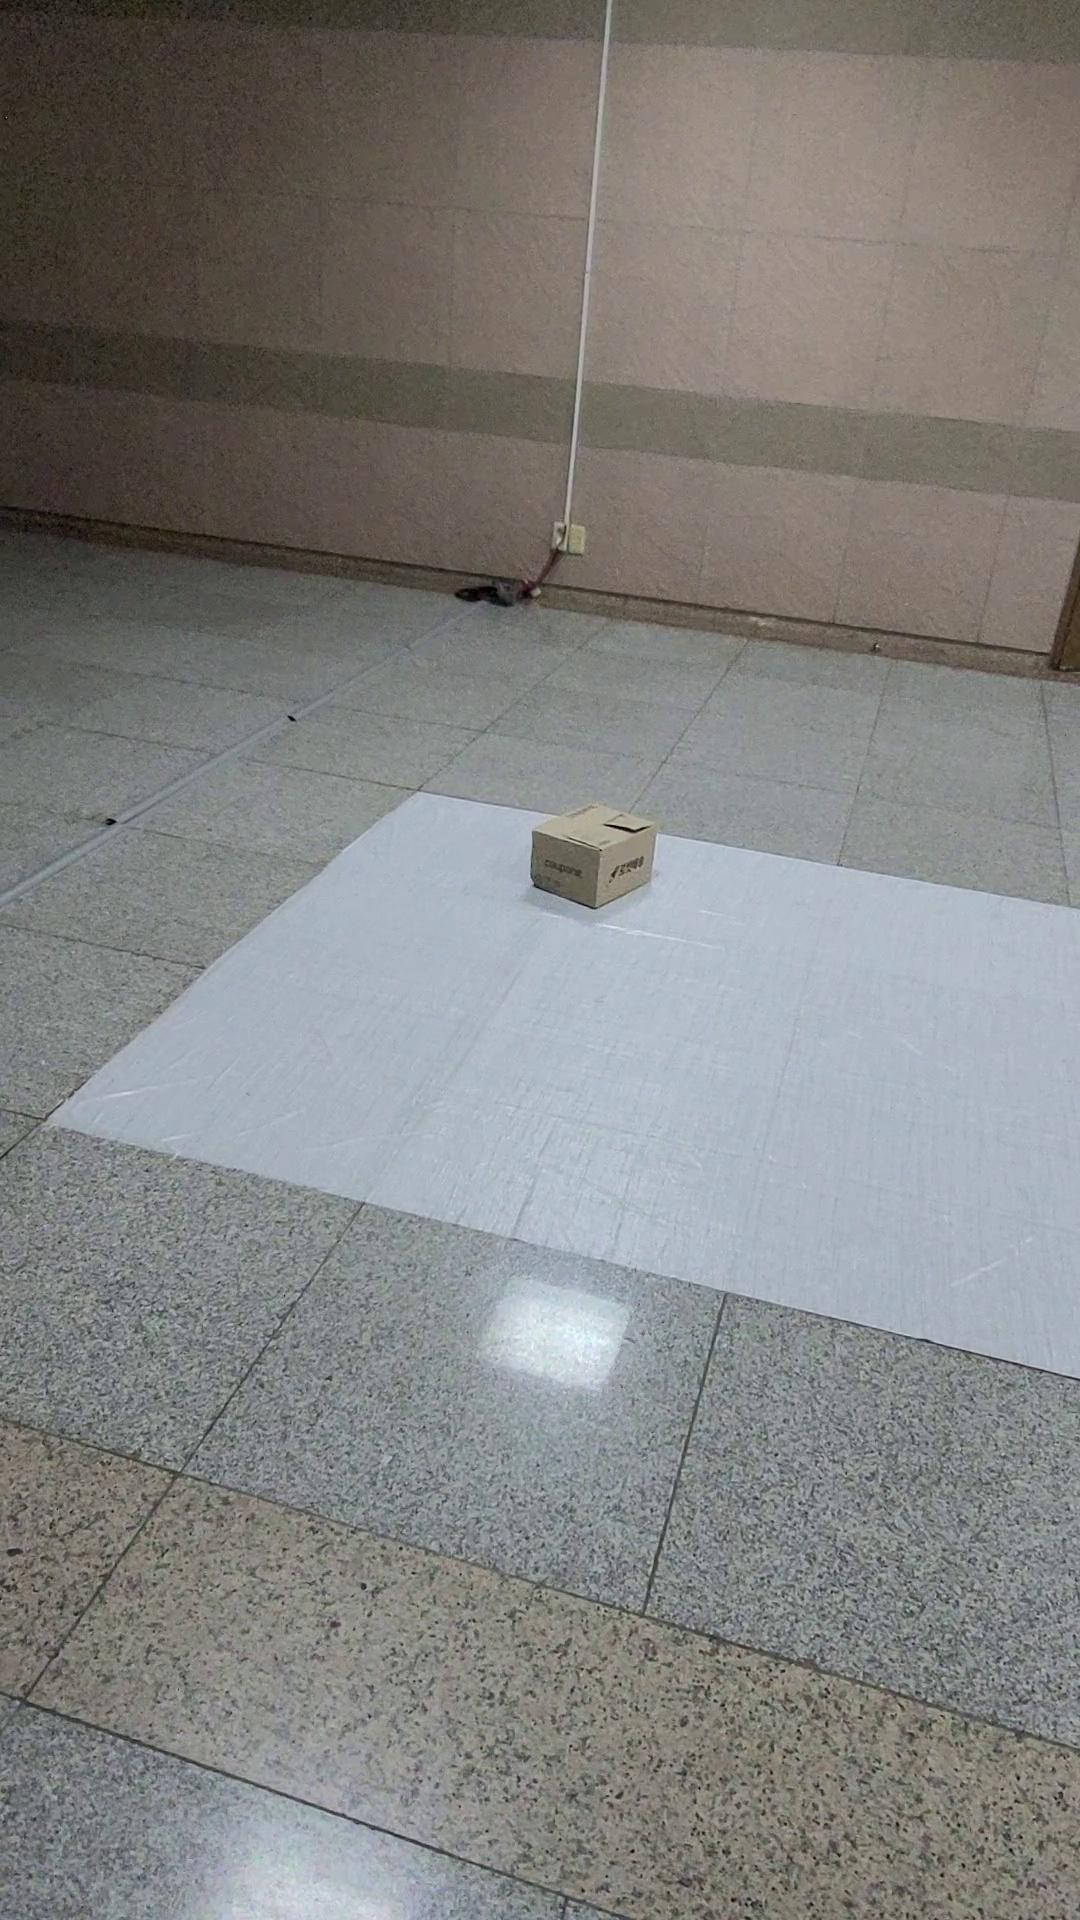Box: (506, 803, 676, 915)
